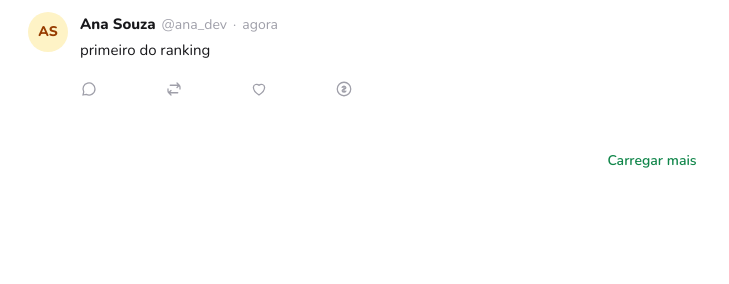
Test: <Feed> › feed de interesses: cursor next_token, sem rolagem automática e com fim explícito
Expected: the text "primeiro do ranking" is shown, [80, 40, 210, 60]
Expected: the text "Você está em dia" is not shown
Click the button "Carregar mais": (652, 161) [591, 139, 713, 183]
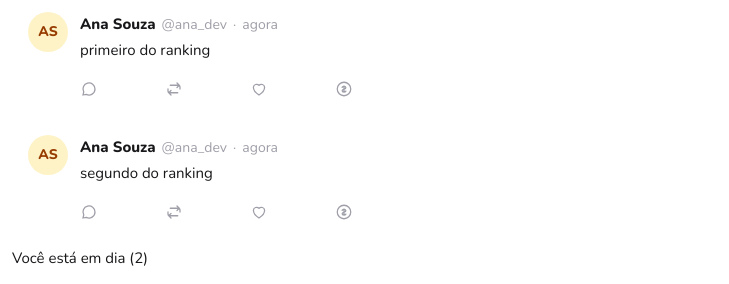
Now the text "Você está em dia (2)" is shown, box [12, 248, 148, 268]
